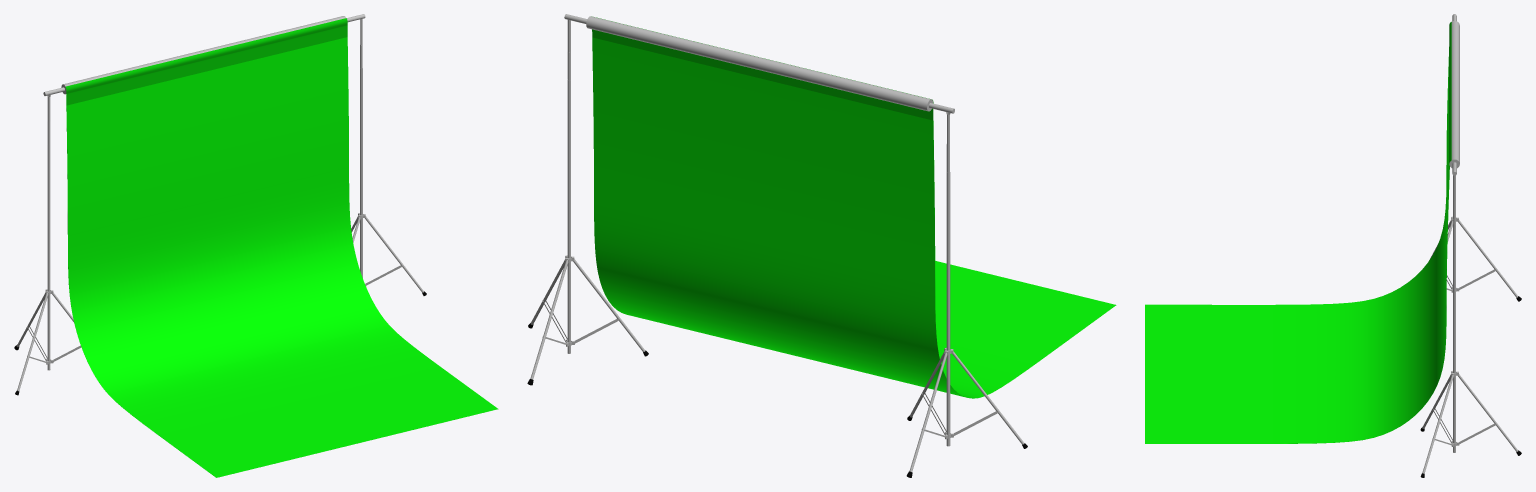
Rendered from mini-photography-backdrop-0021 (1).fbx.
The picture shows the model from 3 angles, left to right: view 1: azimuth 30°, elevation 25°; view 2: azimuth 150°, elevation 25°; view 3: azimuth 270°, elevation 25°; orthographic projection. The views are drawn at different scales.
Visible parts, largest first — view 1: Backdrop, Object_17, Object_17.001, Cylinder; view 2: Backdrop, Cylinder, Object_17, Object_17.001; view 3: Backdrop, Object_17.001, Cylinder, Object_17.
Boxes of the visible parts, bbox=[...] form: Backdrop: bbox=[65, 18, 498, 477]; Object_17: bbox=[16, 97, 81, 391]; Object_17.001: bbox=[351, 18, 424, 292]; Cylinder: bbox=[61, 16, 345, 94]; Backdrop: bbox=[592, 17, 1116, 398]; Cylinder: bbox=[586, 16, 933, 111]; Object_17: bbox=[909, 114, 1024, 471]; Object_17.001: bbox=[530, 20, 645, 379]; Backdrop: bbox=[1145, 22, 1451, 443]; Object_17.001: bbox=[1422, 175, 1518, 473]; Cylinder: bbox=[1449, 21, 1459, 168]; Object_17: bbox=[1430, 175, 1518, 297].
Bounding box in the file's own units: 889 × 588 × 697.
